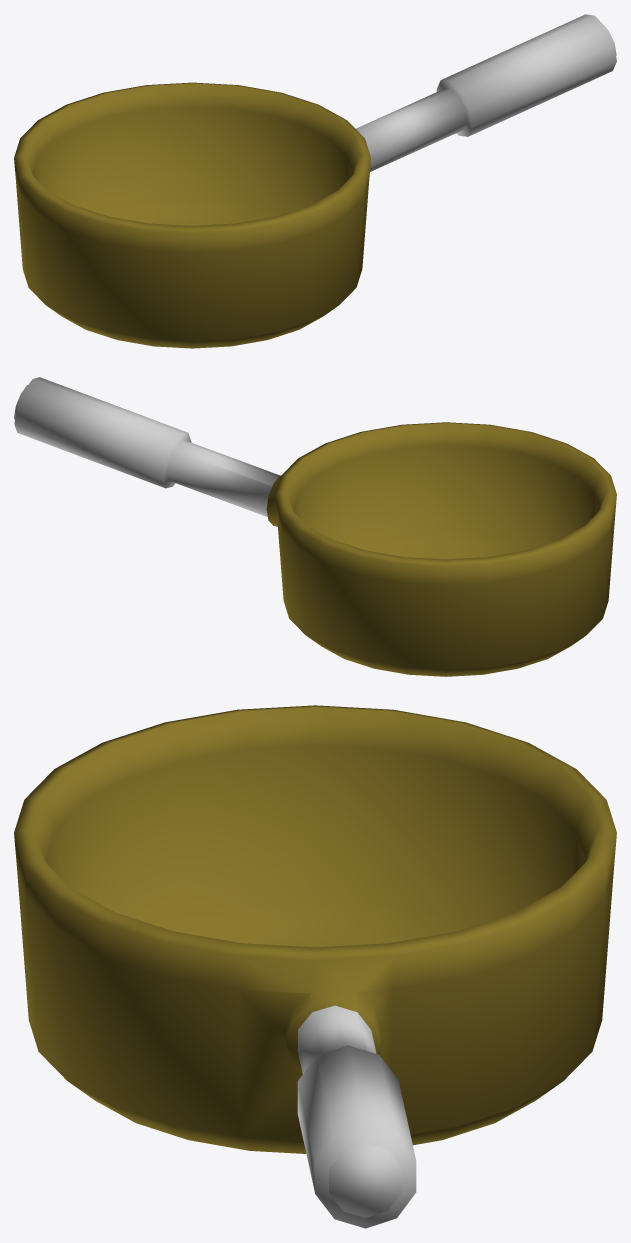
File: K05_Saucepan.fbx
3 renders of one model, top to bottom at view 1: azimuth 30°, elevation 25°; view 2: azimuth 150°, elevation 25°; view 3: azimuth 270°, elevation 25°, orthographic. The views are drawn at different scales.
Parts seen in each view (by area): view 1: K05_Saucepan; view 2: K05_Saucepan; view 3: K05_Saucepan.
Boxes of the visible parts, bbox=[...] form: K05_Saucepan: bbox=[14, 14, 616, 348]; K05_Saucepan: bbox=[14, 377, 616, 676]; K05_Saucepan: bbox=[14, 705, 616, 1228].
Size of the model in its own units: 0.3851 by 0.0988 by 0.204.
